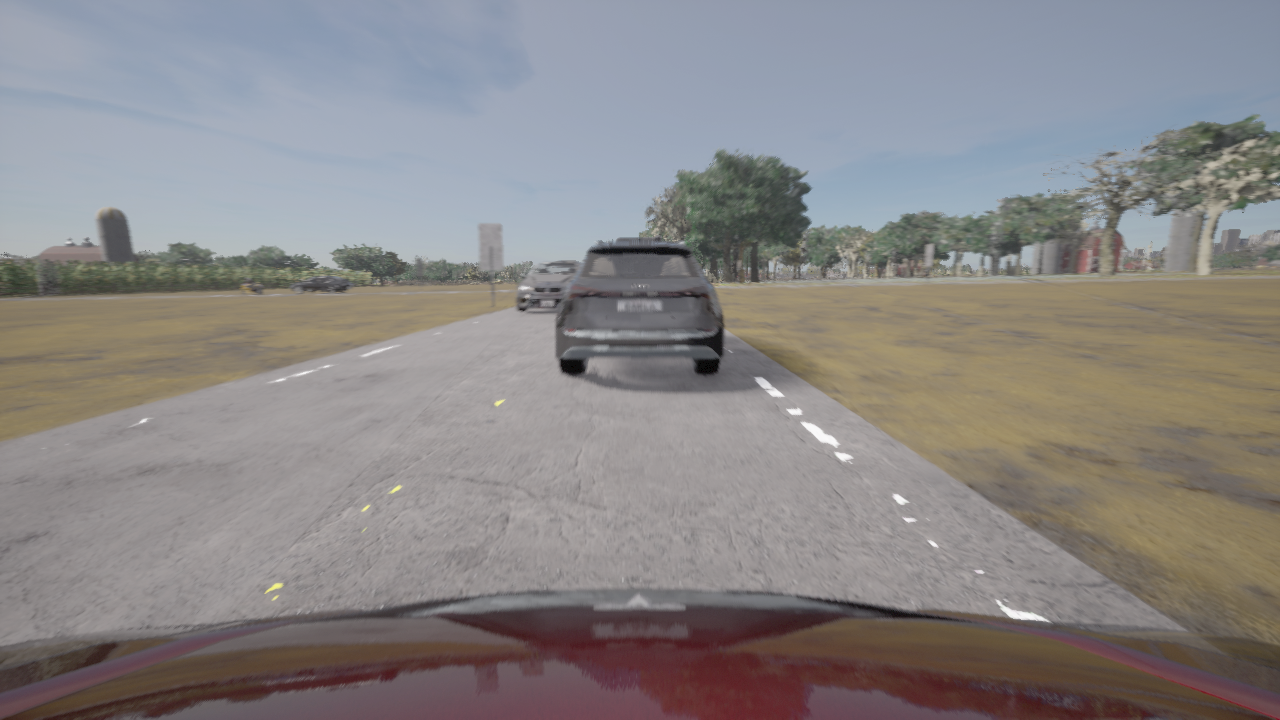cyclist: (0, 588, 1279, 719), (556, 237, 723, 374), (516, 261, 581, 311), (291, 276, 352, 293), (240, 282, 262, 294), (616, 236, 660, 241)
